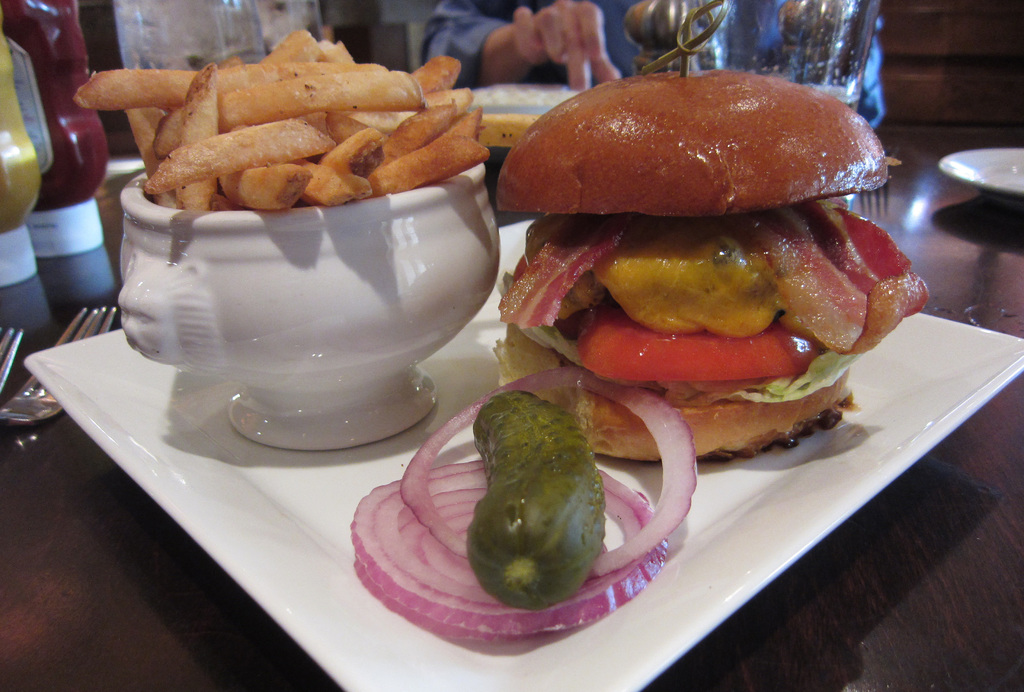French fries: (65, 63, 393, 118), (140, 119, 335, 198), (364, 113, 488, 188), (298, 122, 393, 203), (176, 60, 220, 214), (117, 93, 171, 204), (372, 93, 456, 163), (382, 46, 465, 114), (221, 161, 287, 214), (268, 29, 326, 80), (419, 83, 472, 120), (317, 33, 359, 69)
